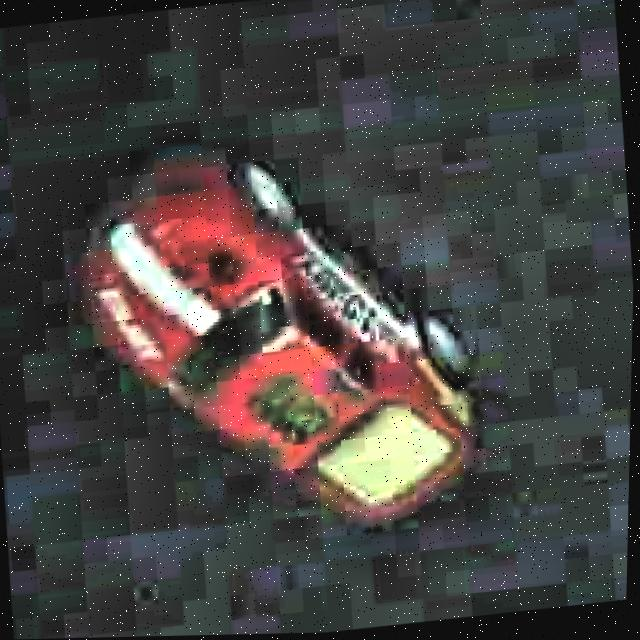car: (69, 118, 490, 560)
